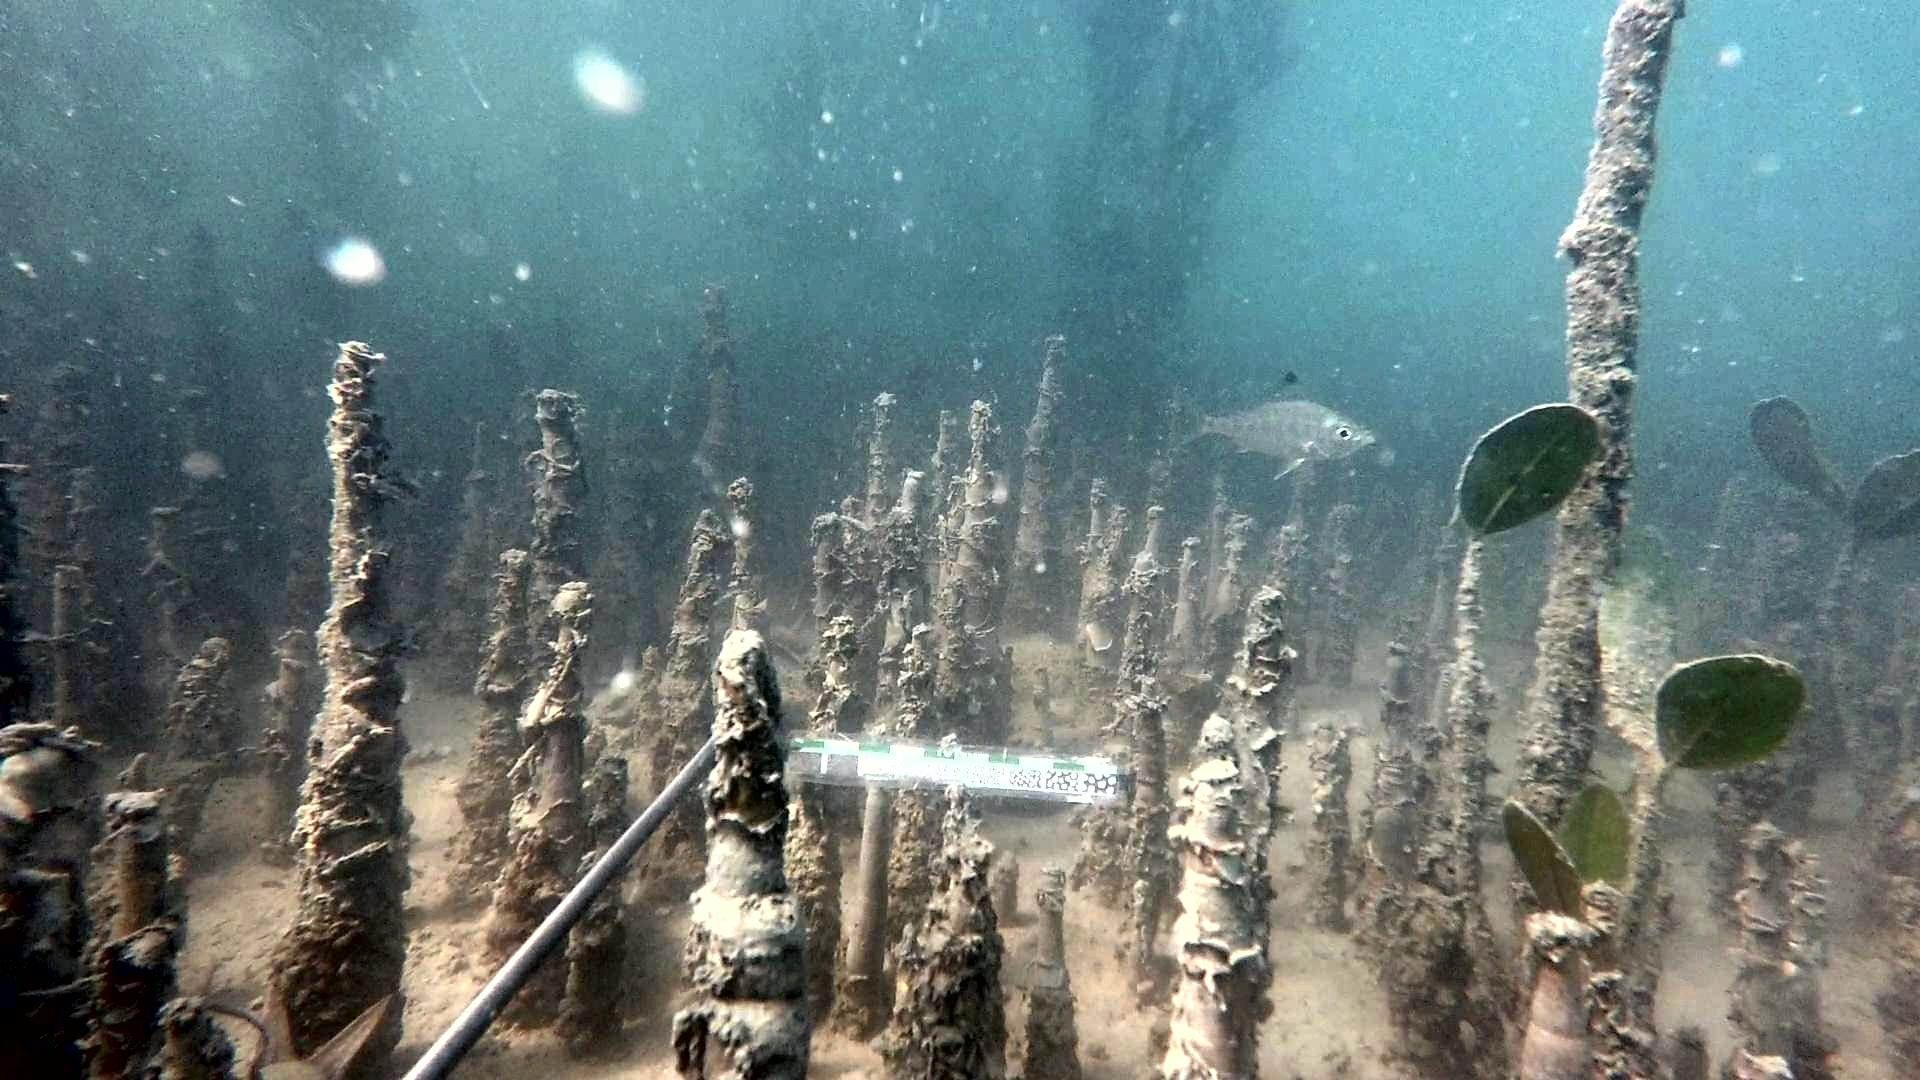gerres: (1171, 369, 1377, 482)
